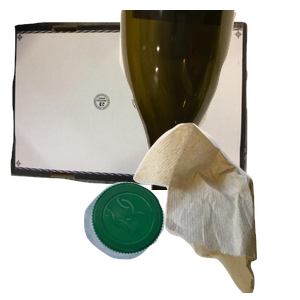cardboard: (10, 19, 250, 199)
glass: (117, 10, 300, 190)
plastic: (81, 179, 239, 300)
trash: (131, 120, 300, 300)
